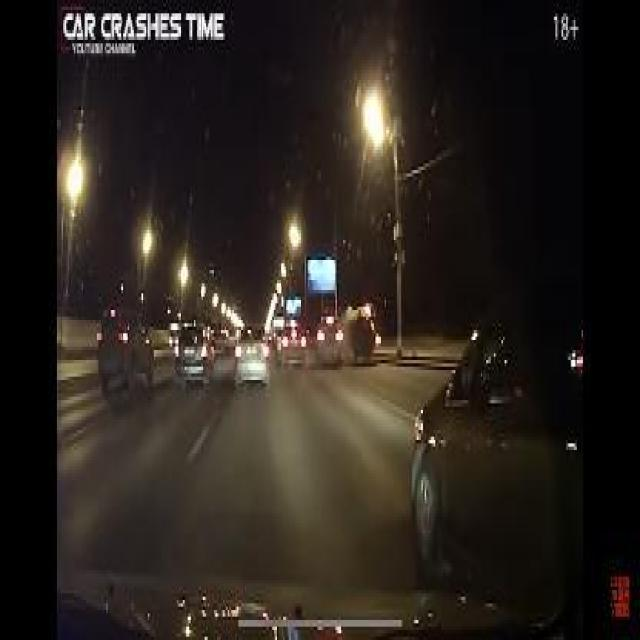accident: (337, 300, 385, 363)
